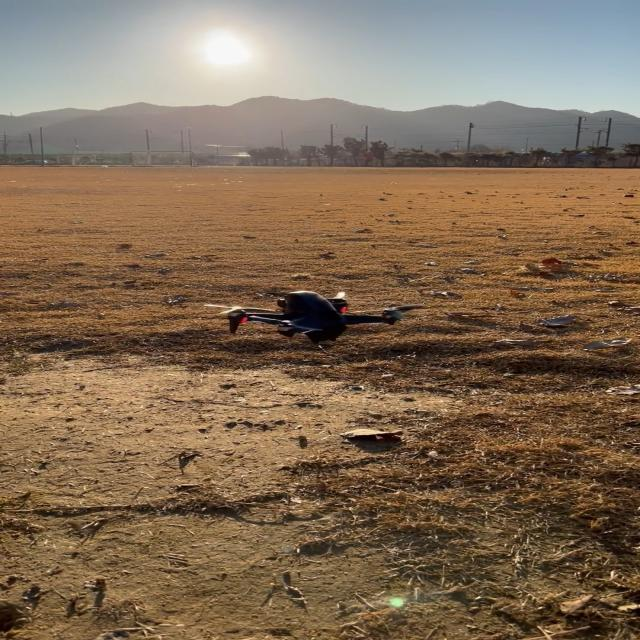drone: (202, 289, 424, 349)
